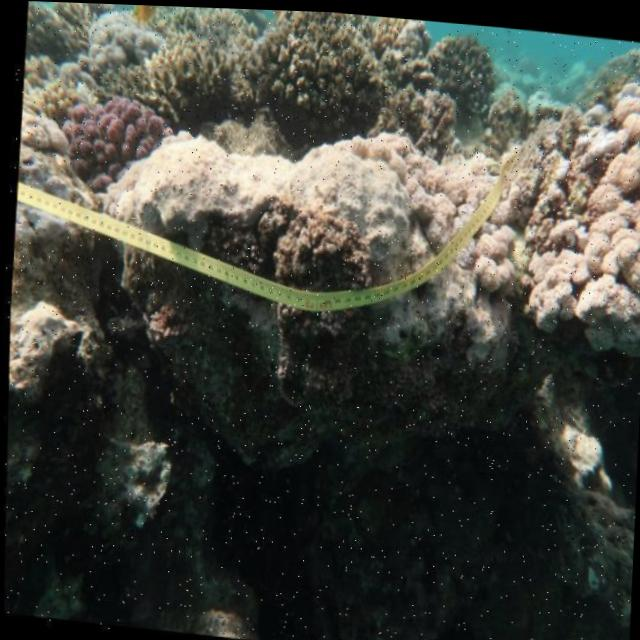Healthy Coral: (56, 84, 167, 195)
